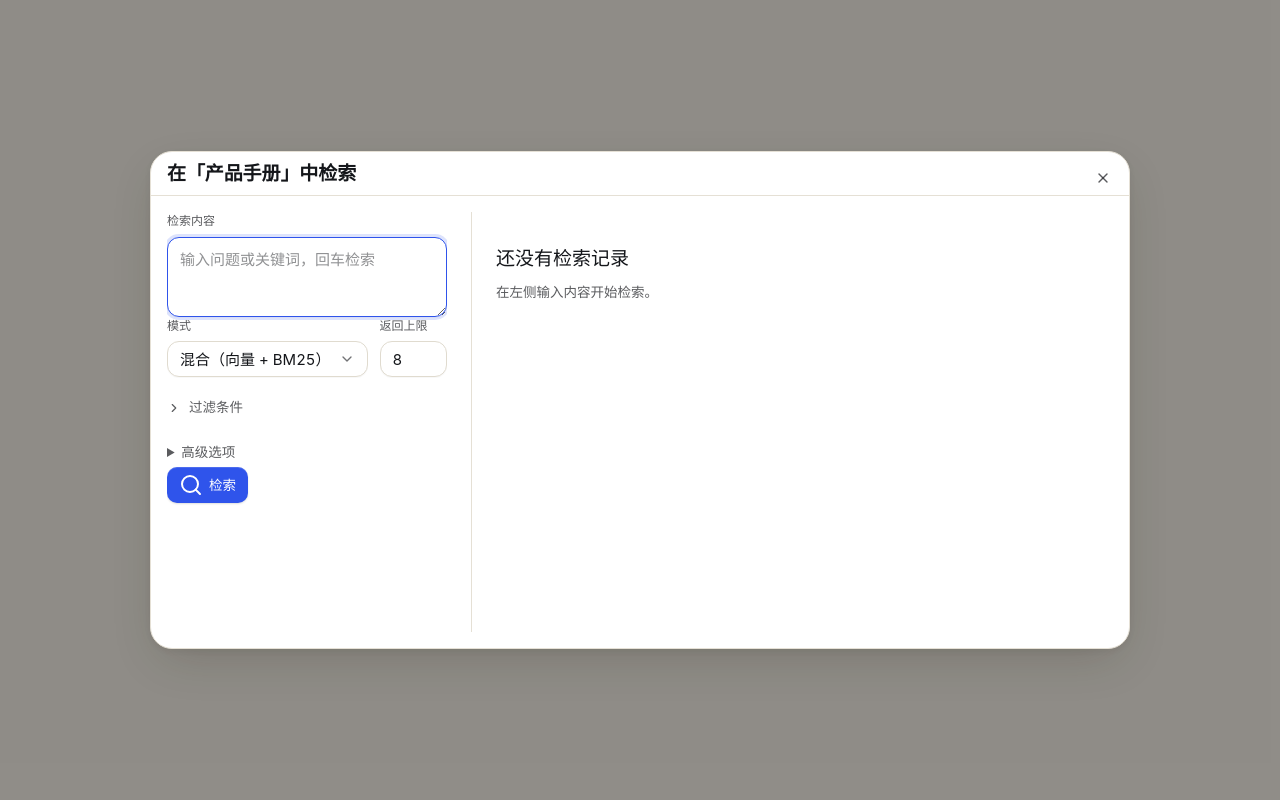
Test: 库内检索面板 › 检索参数按面板上的选择送出，并把命中按"来自哪条通道"摊开
Type "怎么安装" into the text box labelled "检索内容" at {"x": 307, "y": 277}, box [167,237,447,317]
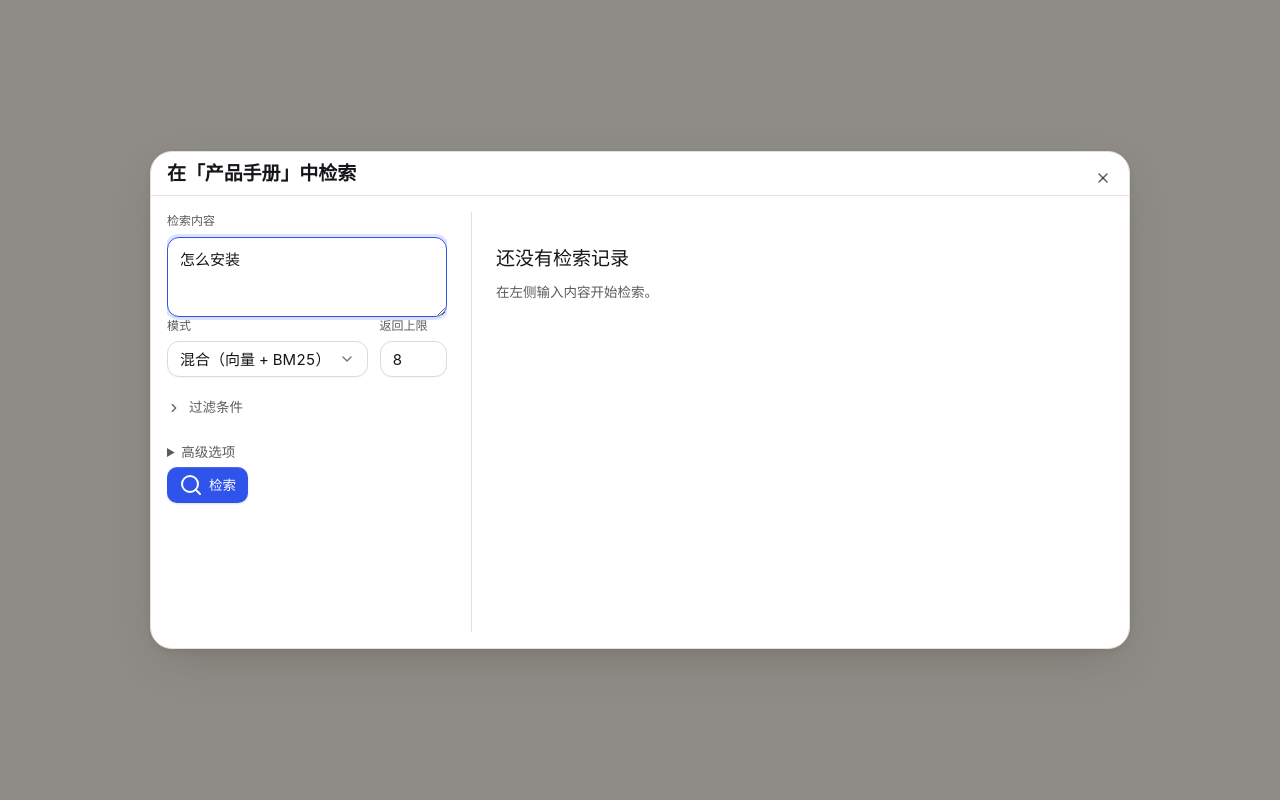
Click the button "检索" at {"x": 208, "y": 485}, box [167,467,248,503]
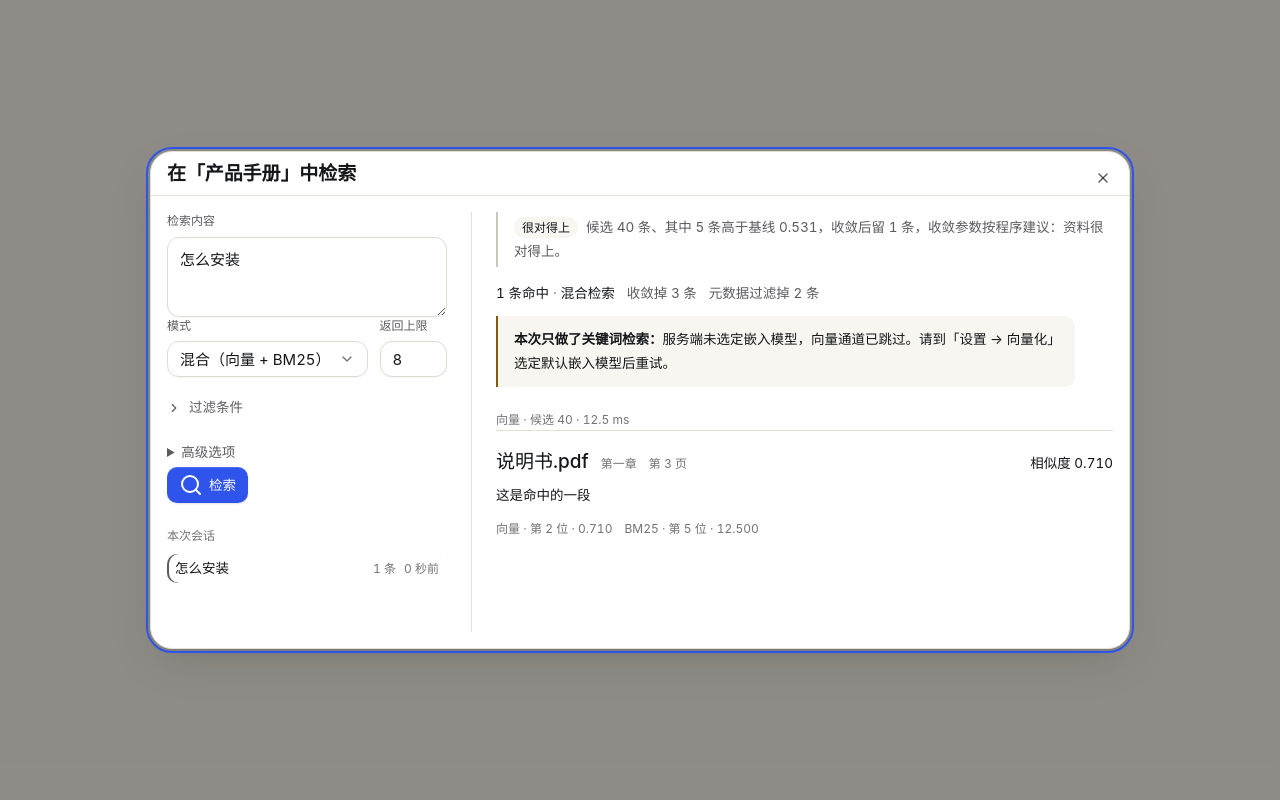
Result: the element with class "kb-hit-summary" shows "1 条命中" at [496,285,819,301]
Result: the button "说明书.pdf" is shown at [496,447,589,476]
Result: the text "相似度 0.710" is shown at [1030,453,1113,474]
